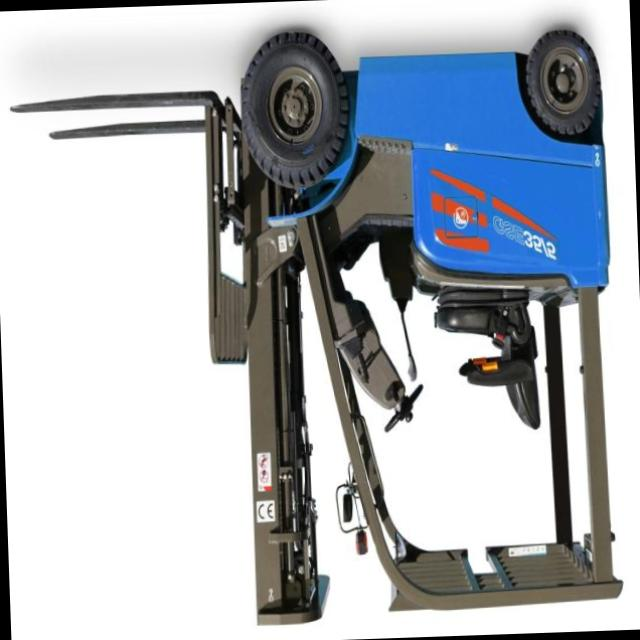forklift: (182, 8, 629, 640)
